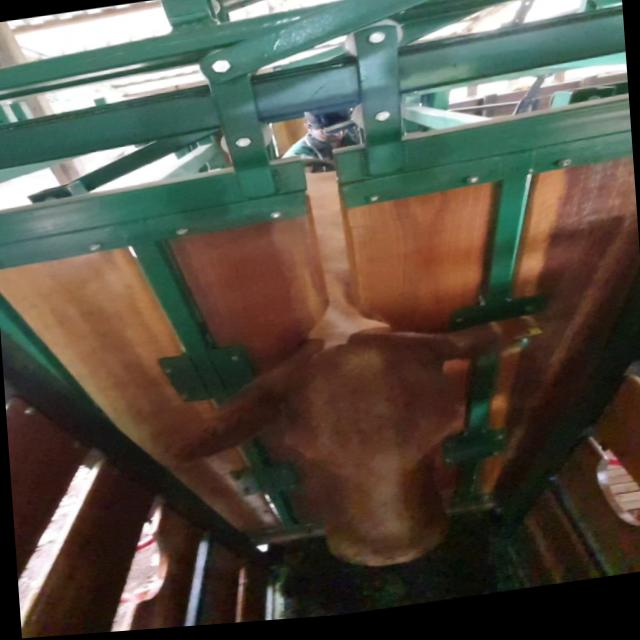cowFace: (277, 336, 471, 583)
